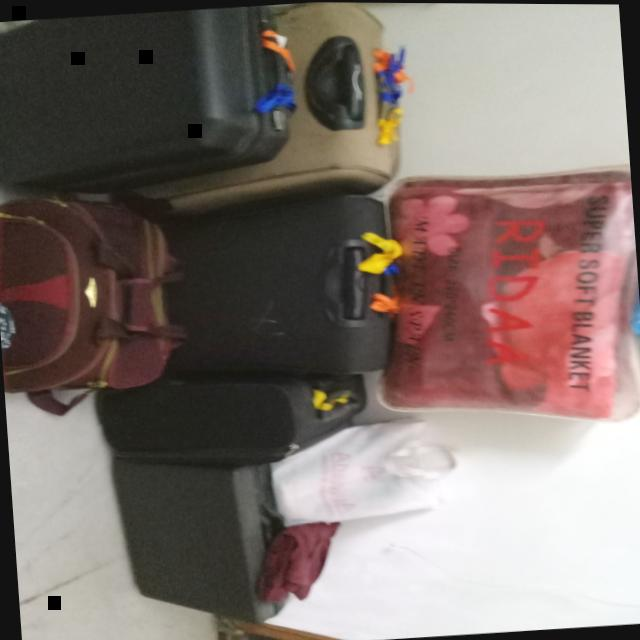luggage: (46, 0, 411, 223), (78, 191, 406, 396), (0, 4, 290, 186), (112, 457, 292, 632), (89, 367, 375, 473)
